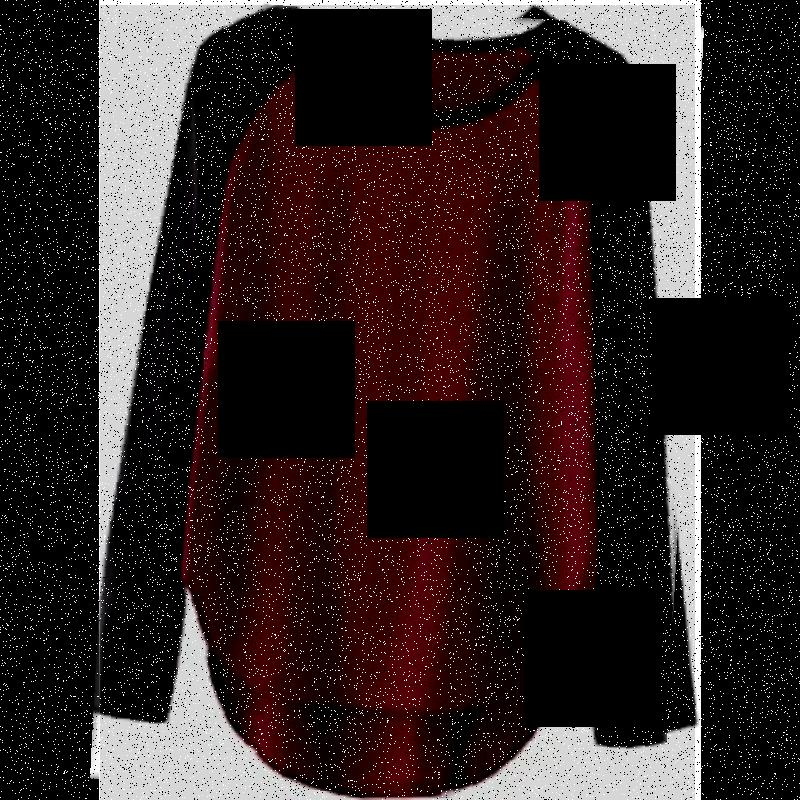Tshirt: (100, 5, 695, 800)
